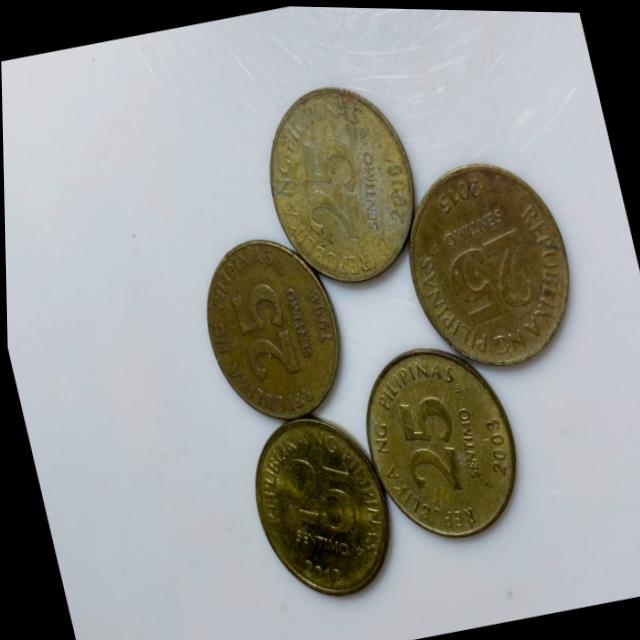25Cent_Old_Front: (435, 218, 542, 329), (386, 381, 468, 497), (268, 442, 360, 539), (289, 132, 365, 244), (222, 275, 296, 381)
